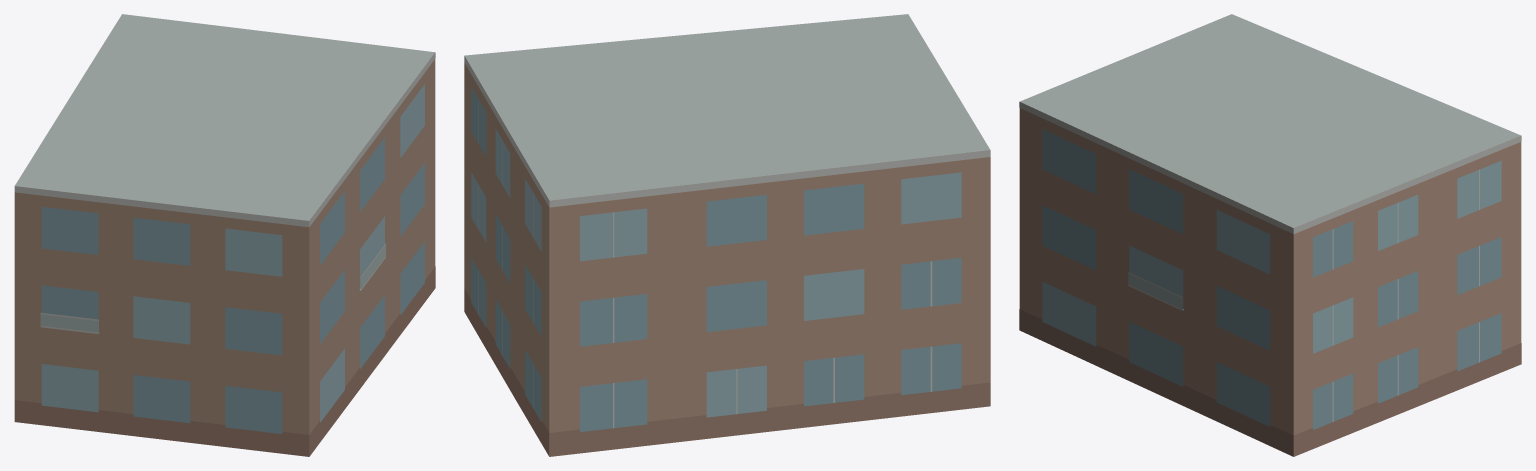
The model's file is survey-upis-32667059.glb.
The picture shows the model from 3 angles, left to right: view 1: azimuth 30°, elevation 25°; view 2: azimuth 150°, elevation 25°; view 3: azimuth 270°, elevation 25°; orthographic projection. The views are drawn at different scales.
Visible parts, largest first — view 1: survey-upis-32667059.tmp; view 2: survey-upis-32667059.tmp; view 3: survey-upis-32667059.tmp.
Part boxes in pixels (box(x1,y1,x2,y2)): survey-upis-32667059.tmp: box(14, 14, 435, 456); survey-upis-32667059.tmp: box(464, 14, 990, 456); survey-upis-32667059.tmp: box(1019, 14, 1521, 456).
Bounding box in the file's own units: 18.38 × 9.15 × 18.2.
